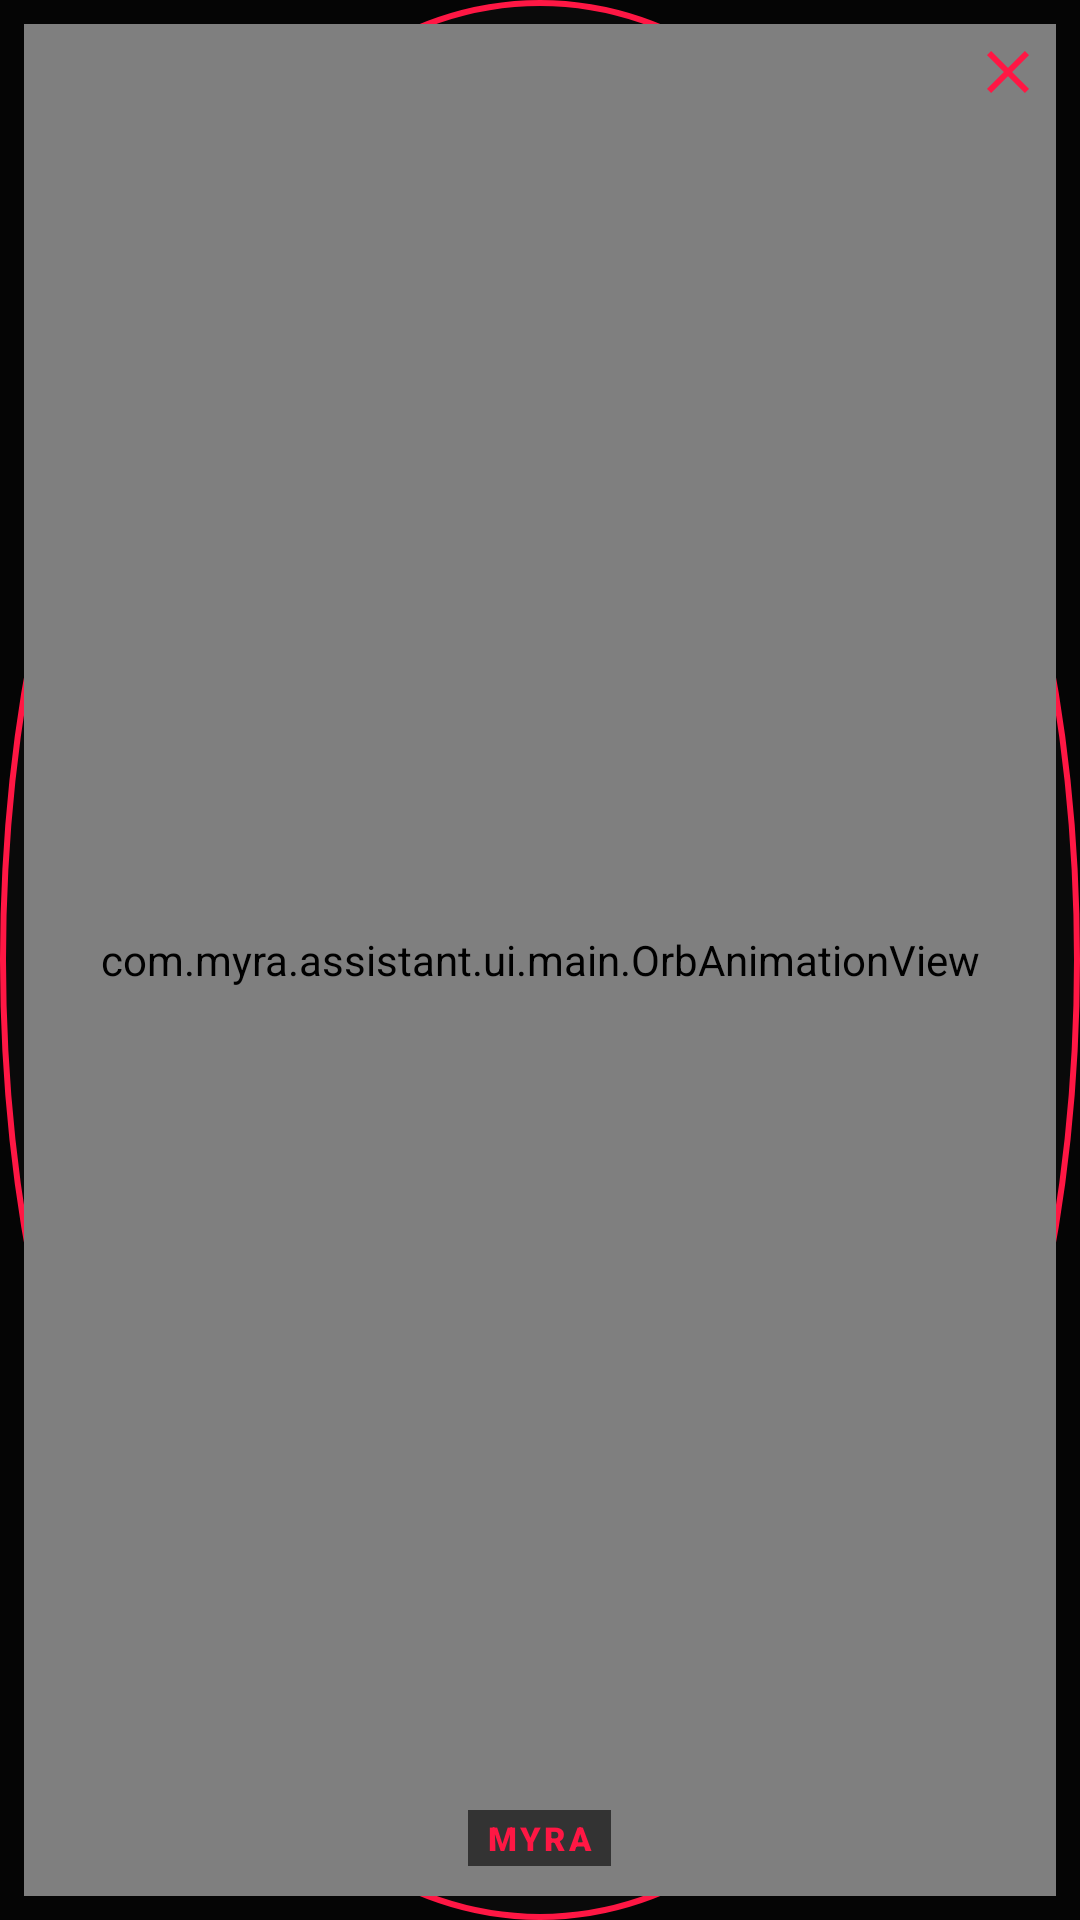

Icon click points for this 1080 x 1920 phone screenshot, format [x,y]:
Close Overlay: [1008,72]
